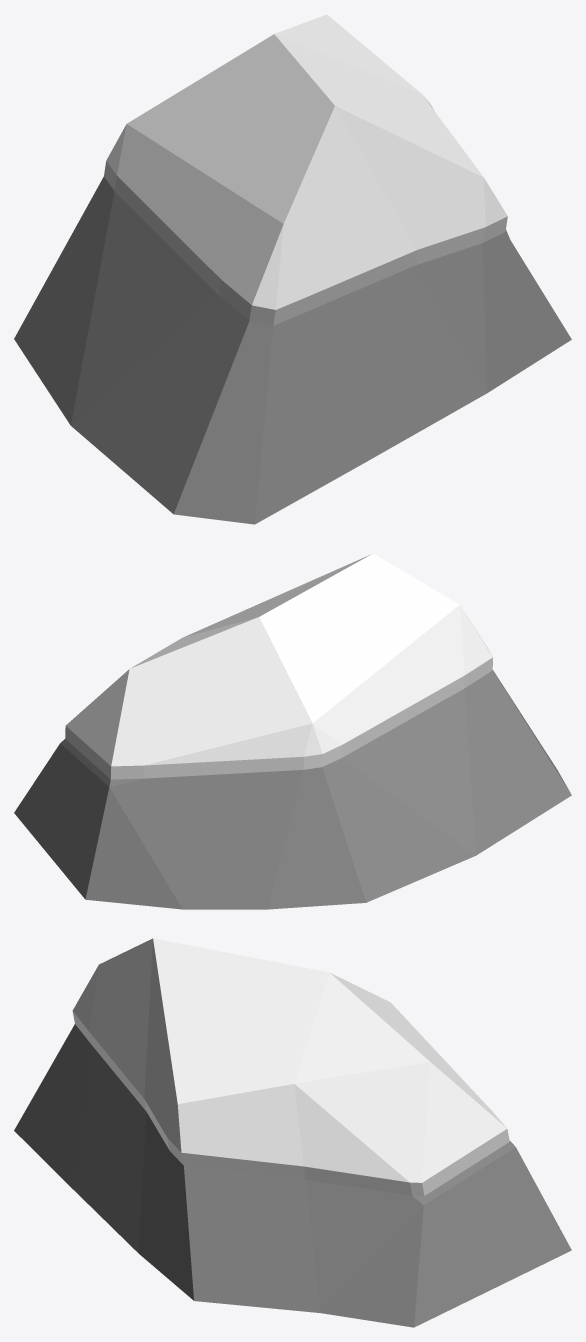
Rendered from SnowRock_01.glb.
3 views of the same model, one above another, from view 1: azimuth 30°, elevation 25°; view 2: azimuth 150°, elevation 25°; view 3: azimuth 270°, elevation 25° (orthographic). The views are drawn at different scales.
Visible parts, largest first — view 1: SnowRock_01; view 2: SnowRock_01; view 3: SnowRock_01.
Boxes of the visible parts, <box> form: SnowRock_01: <box>14,14,571,524</box>; SnowRock_01: <box>14,553,571,909</box>; SnowRock_01: <box>14,938,571,1327</box>.
Size of what is drawn, in the model's own units: 1.21 by 0.6733 by 1.32.
1 material, 1 textured.
